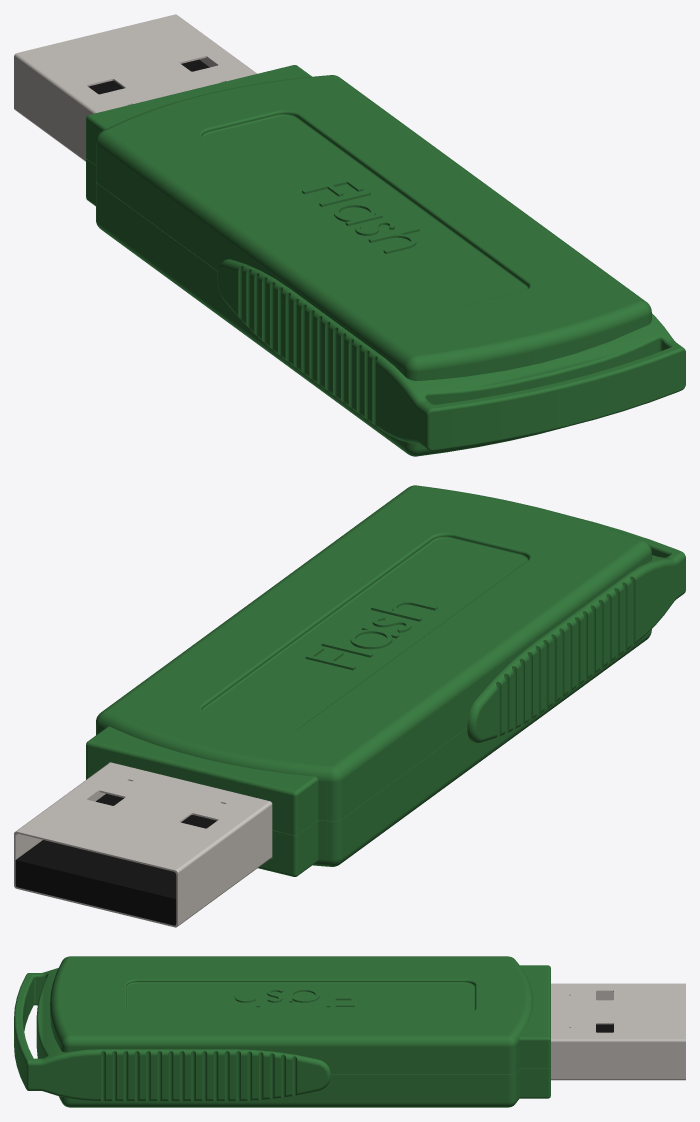
File: Pendrive.fbx
The picture shows the model from 3 angles, top to bottom: view 1: azimuth 30°, elevation 25°; view 2: azimuth 150°, elevation 25°; view 3: azimuth 270°, elevation 25°; orthographic projection. The views are drawn at different scales.
Parts seen in each view (by area): view 1: Body3, Body2; view 2: Body3, Body2, Body1; view 3: Body3, Body2.
Boxes of the visible parts, x1,y1,x2,y2 form: Body3: [86, 65, 685, 456]; Body2: [14, 14, 257, 161]; Body3: [86, 485, 685, 876]; Body2: [14, 762, 272, 927]; Body1: [15, 793, 216, 925]; Body3: [14, 956, 550, 1107]; Body2: [551, 983, 685, 1080].
Size of the model in its own units: 19 by 7 by 59.7.
